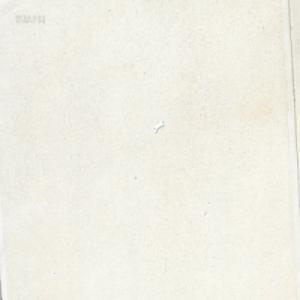Wrench: (153, 120, 164, 133)
